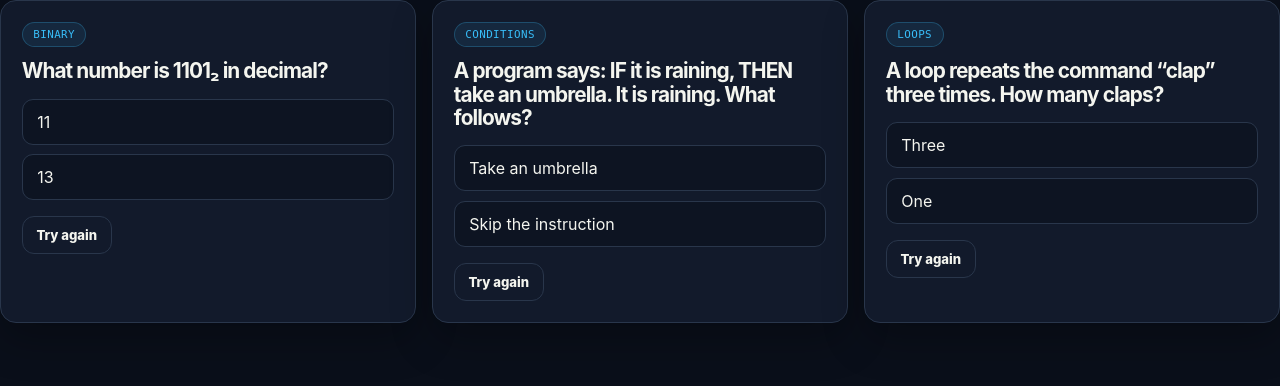
Scenario: CodingChallenges › shows error feedback for the wrong option
This screenshot has width=1280, height=386.
Click the button "11".
click(44, 122)  # box [22,99,394,145]
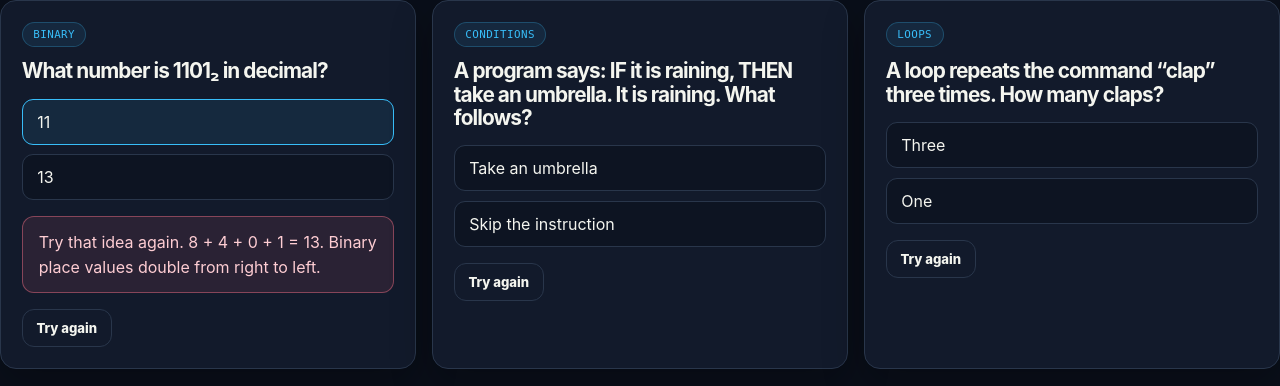
Result: the message shows "Try that idea again" at [39,232,188,252]
